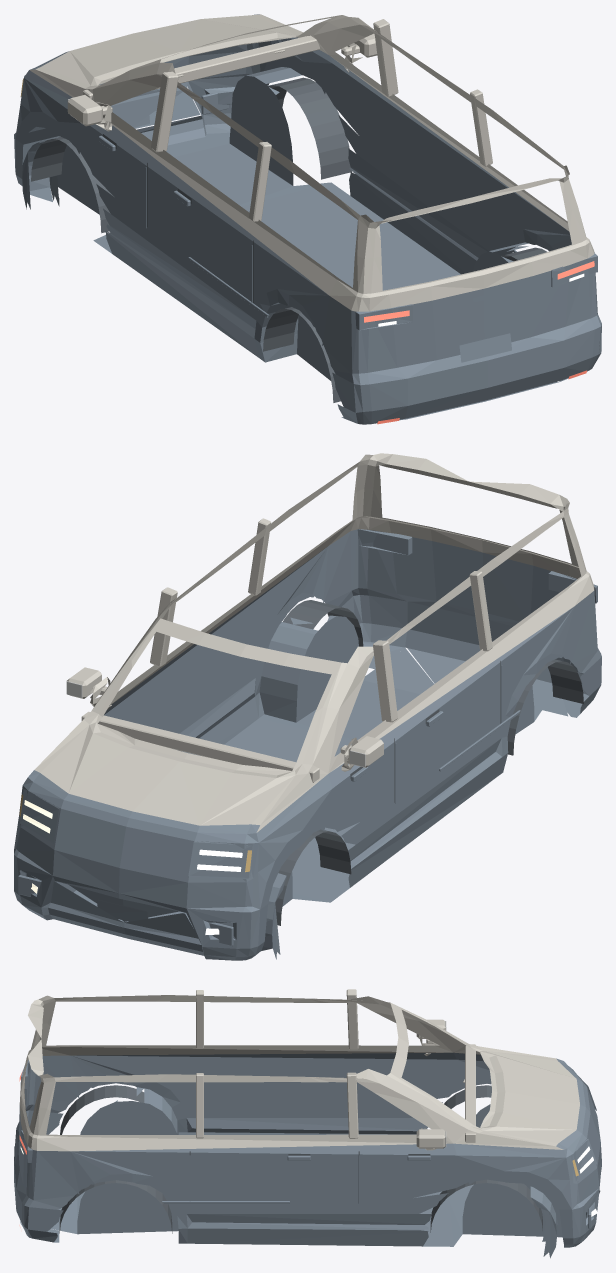
Rendered from Body.glb.
3 renders of one model, top to bottom at view 1: azimuth 30°, elevation 25°; view 2: azimuth 150°, elevation 25°; view 3: azimuth 270°, elevation 25°, orthographic. The views are drawn at different scales.
Parts seen in each view (by area): view 1: Body_SlateBlue, Body_WarmIvory, Body_CharcoalTrim, Body_TaillampRed; view 2: Body_SlateBlue, Body_WarmIvory, Body_CharcoalTrim, Body_HeadlampCream; view 3: Body_SlateBlue, Body_WarmIvory, Body_CharcoalTrim.
Boxes of the visible parts, left/top/right/bottom form: Body_SlateBlue: left=14, top=14, right=601, bottom=424; Body_WarmIvory: left=29, top=14, right=594, bottom=311; Body_CharcoalTrim: left=31, top=77, right=546, bottom=402; Body_TaillampRed: left=364, top=261, right=594, bottom=424; Body_SlateBlue: left=14, top=529, right=601, bottom=960; Body_WarmIvory: left=34, top=453, right=594, bottom=832; Body_CharcoalTrim: left=275, top=600, right=583, bottom=925; Body_HeadlampCream: left=23, top=800, right=242, bottom=934; Body_SlateBlue: left=14, top=1052, right=601, bottom=1258; Body_WarmIvory: left=19, top=989, right=579, bottom=1151; Body_CharcoalTrim: left=59, top=1085, right=542, bottom=1233.
Size of the model in its own units: 2.55 by 1.8 by 5.39.
